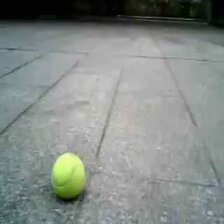tennis: (50, 154, 85, 196)
